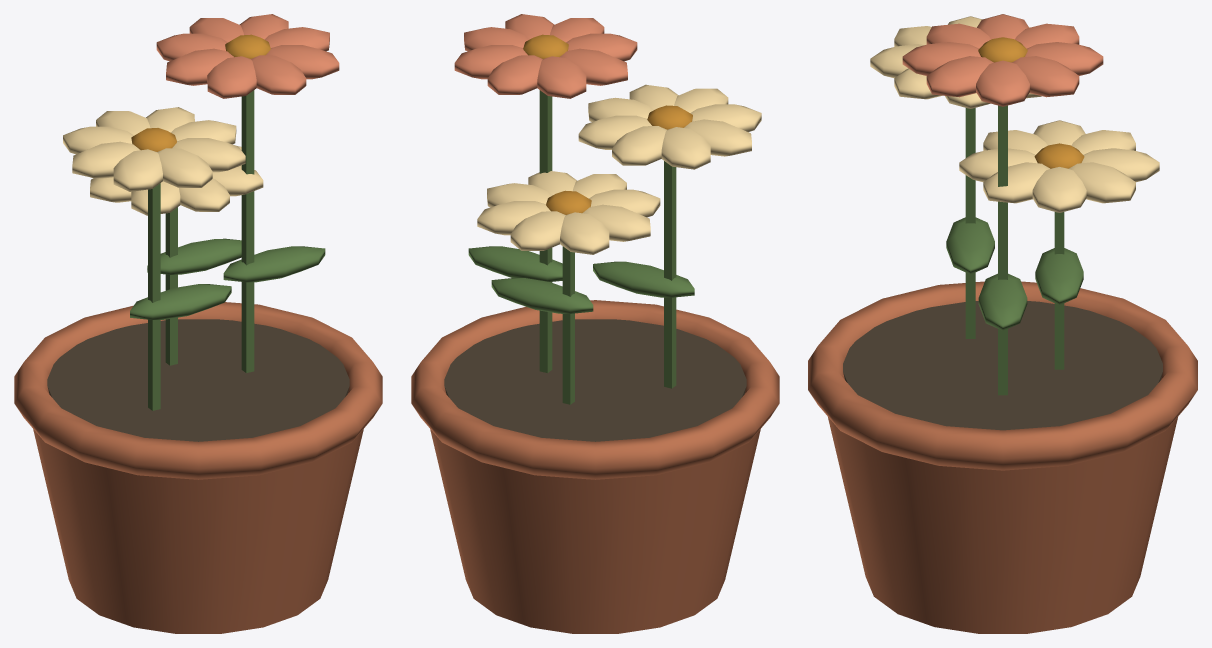
File: flower.glb
3 views of the same model, side by side, from view 1: azimuth 30°, elevation 25°; view 2: azimuth 150°, elevation 25°; view 3: azimuth 270°, elevation 25° (orthographic). The views are drawn at different scales.
Visible parts, largest first — view 1: MemoryGate_flower; view 2: MemoryGate_flower; view 3: MemoryGate_flower.
Part boxes in pixels (x1=…): MemoryGate_flower: x1=14, y1=14, x2=382, y2=633; MemoryGate_flower: x1=411, y1=14, x2=779, y2=633; MemoryGate_flower: x1=808, y1=14, x2=1197, y2=633.
Bounding box in the file's own units: 0.49 × 0.7661 × 0.4826.
